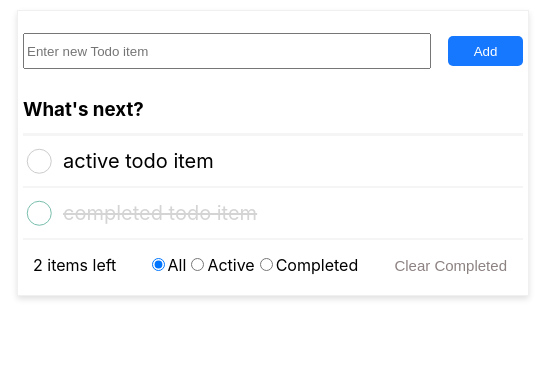
TodoList › should show bottom bar with the correct number of left todos
The image size is (547, 369).
Expected: the text "2 items left" is shown, [33, 255, 116, 275]
Click the field at [227, 51], box [23, 33, 431, 69]
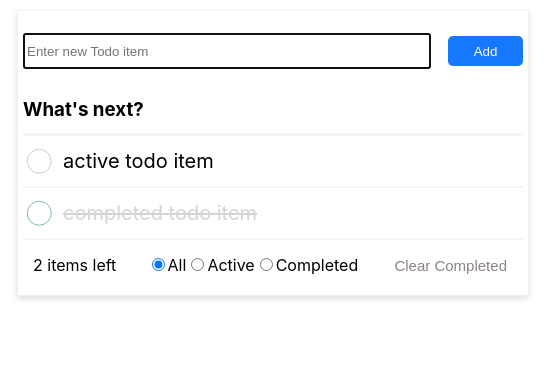
Type keys "new todo[Enter]"
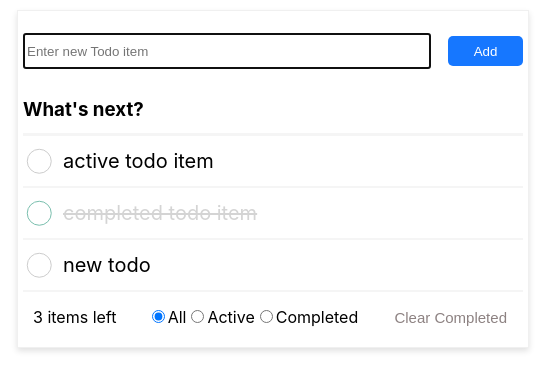
Expected: the text "2 items left" is gone
Expected: the text "3 items left" is shown, [33, 307, 116, 327]
